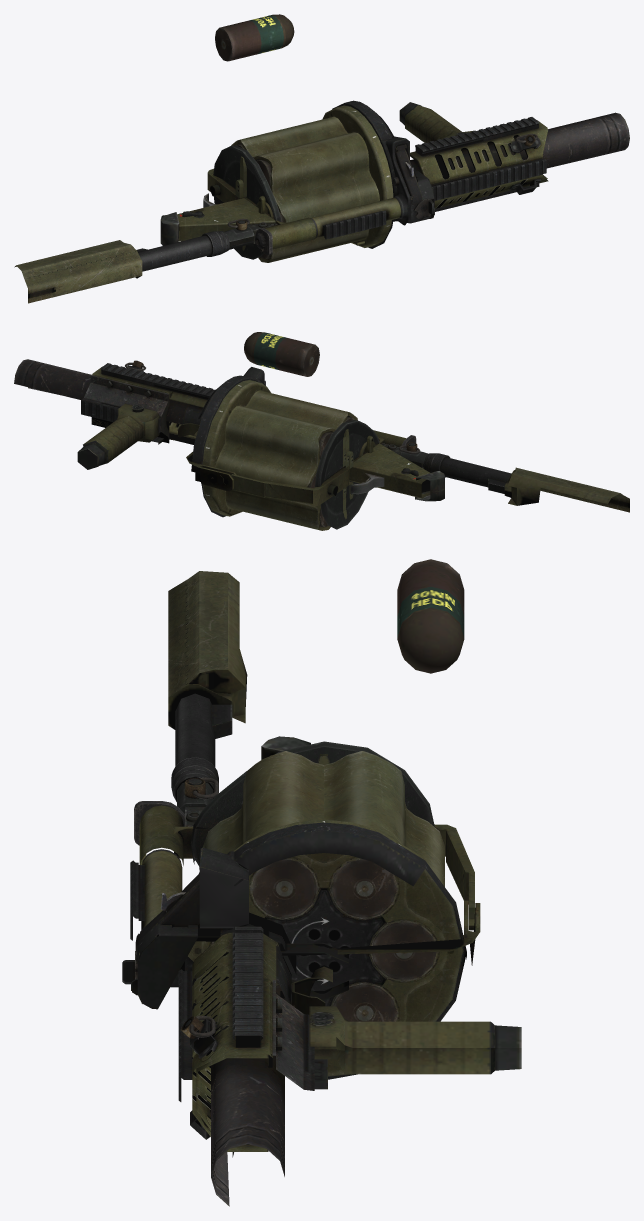
Rendered from t6_wpn_launch_m32_view_LOD0.obj.
The picture shows the model from 3 angles, top to bottom: view 1: azimuth 30°, elevation 25°; view 2: azimuth 150°, elevation 25°; view 3: azimuth 270°, elevation 25°; orthographic projection. The views are drawn at different scales.
Parts seen in each view (by area): view 1: mtl_t6_wpn_launch_m32; view 2: mtl_t6_wpn_launch_m32; view 3: mtl_t6_wpn_launch_m32.
Boxes of the visible parts, <box> form: mtl_t6_wpn_launch_m32: <box>14,14,629,303</box>; mtl_t6_wpn_launch_m32: <box>14,332,629,530</box>; mtl_t6_wpn_launch_m32: <box>122,559,521,1206</box>.
Bounding box in the file's own units: 81.65 × 28.05 × 24.04.
